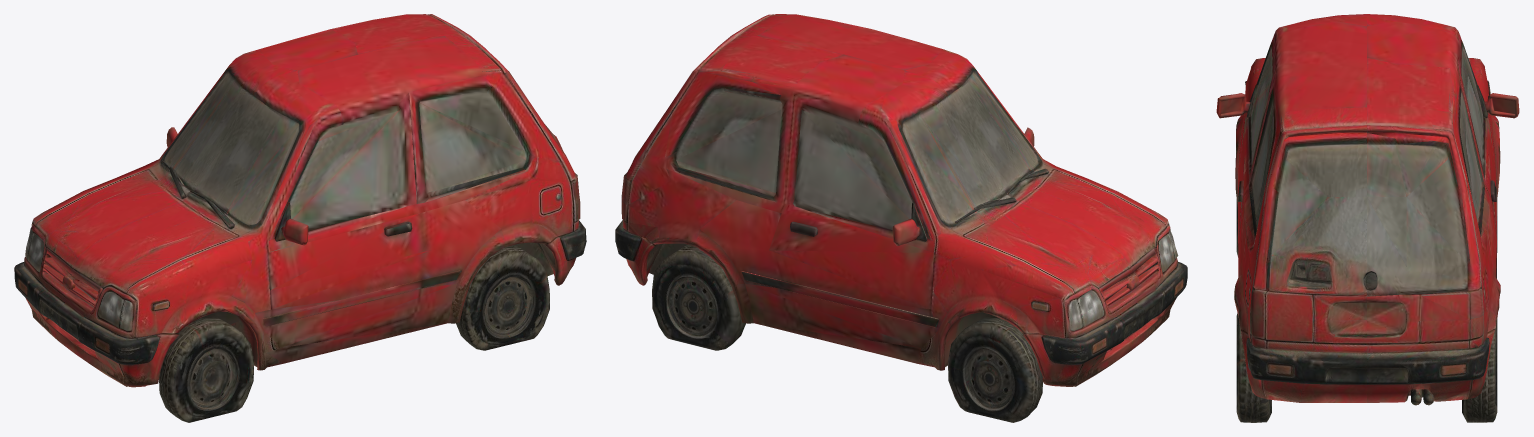
File: car0.glb
3 views of the same model, side by side, from view 1: azimuth 30°, elevation 25°; view 2: azimuth 150°, elevation 25°; view 3: azimuth 270°, elevation 25° (orthographic). The views are drawn at different scales.
Parts seen in each view (by area): view 1: car0; view 2: car0; view 3: car0.
Boxes of the visible parts, x1,y1,x2,y2 form: car0: [14, 14, 586, 422]; car0: [615, 14, 1187, 422]; car0: [1216, 14, 1519, 422].
Size of the model in its own units: 1.9 by 1.01 by 0.92.
Materials: 1 (1 with a texture image).
